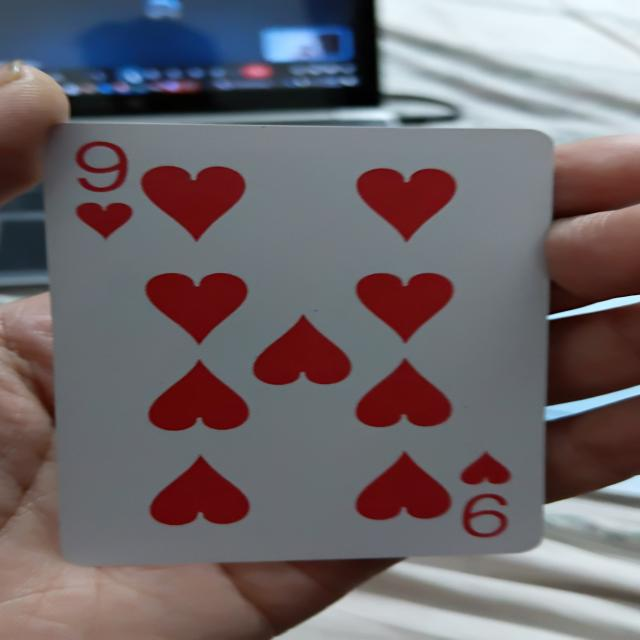9H: (53, 121, 541, 554)
